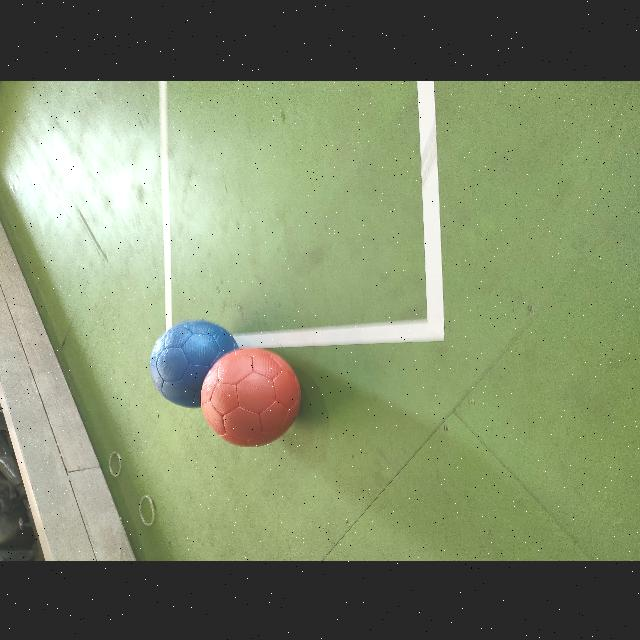B: (149, 319, 237, 406)
R: (200, 348, 300, 446)
